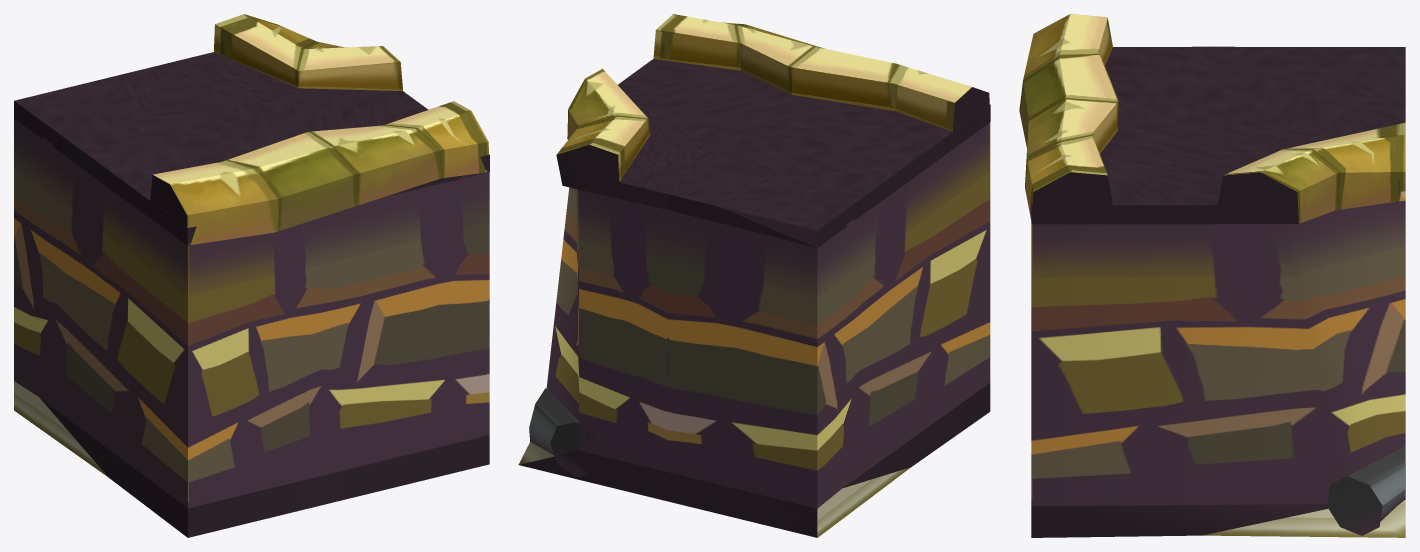
File: Int_26_Cross_Quarter_L.fbx
3 renders of one model, left to right at view 1: azimuth 30°, elevation 25°; view 2: azimuth 150°, elevation 25°; view 3: azimuth 270°, elevation 25°, orthographic. The views are drawn at different scales.
Visible parts, largest first — view 1: Int_26_Cross_Quarter_L; view 2: Int_26_Cross_Quarter_L; view 3: Int_26_Cross_Quarter_L.
Boxes of the visible parts, x1,y1,x2,y2 form: Int_26_Cross_Quarter_L: [14, 14, 489, 537]; Int_26_Cross_Quarter_L: [518, 14, 990, 537]; Int_26_Cross_Quarter_L: [1019, 14, 1405, 537].
Bounding box in the file's own units: 1 × 1.08 × 1.03.
1 material, 1 textured.
